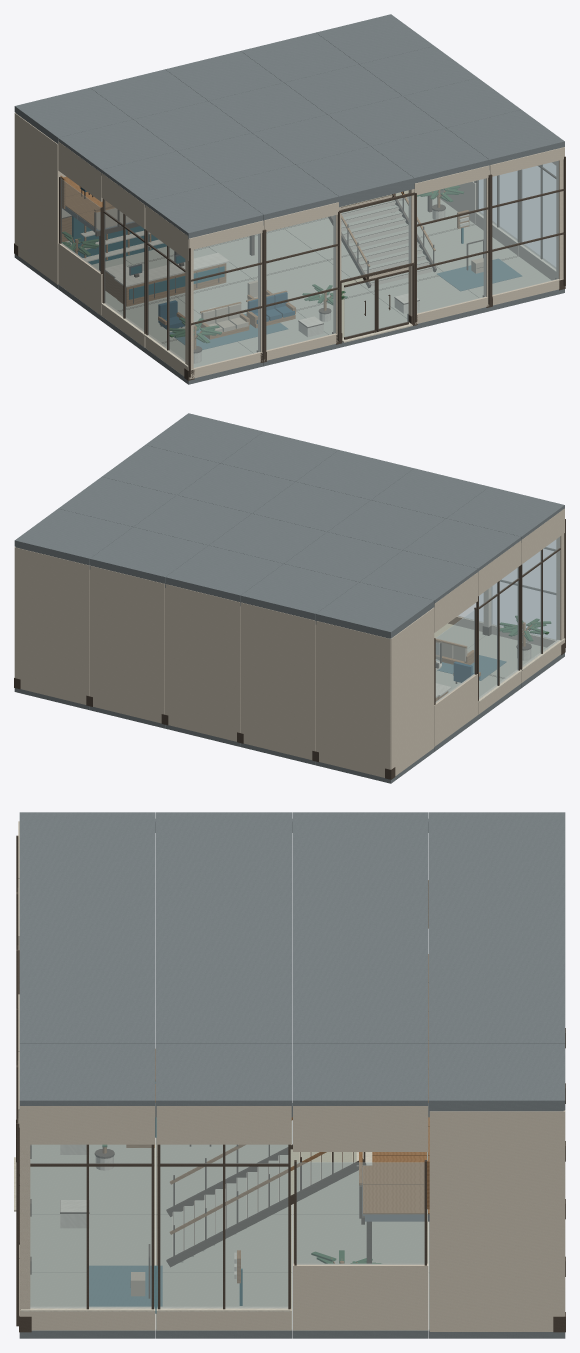
Rendered from PZ_Seaside_Resort_Lobby.glb.
3 renders of one model, top to bottom at view 1: azimuth 30°, elevation 25°; view 2: azimuth 150°, elevation 25°; view 3: azimuth 270°, elevation 25°, orthographic. The views are drawn at different scales.
Visible parts, largest first — view 1: RENDER__FrontGlazingBay_X+4_SNAP__WindowWallGlass__Glass, RENDER__FrontGlazingBay_X-4_SNAP__WindowWallGlass__Glass, RENDER__FrontGlazingBay_X-8_SNAP__WindowWallGlass__Glass, RENDER__FrontGlazingBay_X+8_SNAP__WindowWallGlass__Glass, RENDER__West_FacadeBay_04_SNAP__FullHeightInsulatedWall__Pla, RENDER__A06_CENTER_ENTRANCE_4M_BAY__Entry_UpperGlazing__Glas, RENDER__West_FacadeBay_02_SNAP__TintedGlazing__Glass, RENDER__RoofPanel_01_01_REMOVABLE__InsulatedRoofSlab__Concre, RENDER__West_FacadeBay_01_SNAP__TintedGlazing__Glass, RENDER__RoofPanel_03_01_REMOVABLE__InsulatedRoofSlab__Concre, RENDER__RoofPanel_02_01_REMOVABLE__InsulatedRoofSlab__Concre, RENDER__RoofPanel_04_01_REMOVABLE__InsulatedRoofSlab__Concre (+65 smaller); view 2: RENDER__BackWallBay_03_SNAP_4M__FullHeightInsulatedWall__Pla, RENDER__BackWallBay_02_SNAP_4M__FullHeightInsulatedWall__Pla, RENDER__BackWallBay_04_SNAP_4M__FullHeightInsulatedWall__Pla, RENDER__BackWallBay_05_SNAP_4M__FullHeightInsulatedWall__Pla, RENDER__BackWallBay_01_SNAP_4M__FullHeightInsulatedWall__Pla, RENDER__West_FacadeBay_04_SNAP__FullHeightInsulatedWall__Pla, RENDER__West_FacadeBay_02_SNAP__TintedGlazing__Glass, RENDER__RoofPanel_01_04_REMOVABLE__InsulatedRoofSlab__Concre, RENDER__West_FacadeBay_01_SNAP__TintedGlazing__Glass, RENDER__RoofPanel_03_04_REMOVABLE__InsulatedRoofSlab__Concre, RENDER__RoofPanel_04_04_REMOVABLE__InsulatedRoofSlab__Concre, RENDER__RoofPanel_05_04_REMOVABLE__InsulatedRoofSlab__Concre (+31 smaller); view 3: RENDER__East_FacadeBay_04_SNAP__FullHeightInsulatedWall__Pla, RENDER__East_FacadeBay_02_SNAP__TintedGlazing__Glass, RENDER__East_FacadeBay_01_SNAP__TintedGlazing__Glass, RENDER__East_FacadeBay_03_SNAP__GlazedClerestory__Glass, RENDER__RoofPanel_05_04_REMOVABLE__InsulatedRoofSlab__Concre, RENDER__East_FacadeBay_03_SNAP__LowerWall__PlasterWarm, RENDER__RoofPanel_05_02_REMOVABLE__InsulatedRoofSlab__Concre, RENDER__RoofPanel_05_01_REMOVABLE__InsulatedRoofSlab__Concre, RENDER__RoofPanel_05_03_REMOVABLE__InsulatedRoofSlab__Concre, RENDER__RoofPanel_04_01_REMOVABLE__InsulatedRoofSlab__Concre, RENDER__RoofPanel_04_02_REMOVABLE__InsulatedRoofSlab__Concre, RENDER__RoofPanel_04_03_REMOVABLE__InsulatedRoofSlab__Concre (+42 smaller).
Boxes of the visible parts, bbox=[...] form: RENDER__FrontGlazingBay_X+4_SNAP__WindowWallGlass__Glass: bbox=[417, 178, 486, 313]; RENDER__FrontGlazingBay_X-4_SNAP__WindowWallGlass__Glass: bbox=[266, 215, 335, 350]; RENDER__FrontGlazingBay_X-8_SNAP__WindowWallGlass__Glass: bbox=[193, 233, 260, 367]; RENDER__FrontGlazingBay_X+8_SNAP__WindowWallGlass__Glass: bbox=[492, 161, 558, 294]; RENDER__West_FacadeBay_04_SNAP__FullHeightInsulatedWall__Pla: bbox=[14, 113, 60, 284]; RENDER__A06_CENTER_ENTRANCE_4M_BAY__Entry_UpperGlazing__Glas: bbox=[341, 196, 410, 279]; RENDER__West_FacadeBay_02_SNAP__TintedGlazing__Glass: bbox=[104, 200, 144, 331]; RENDER__RoofPanel_01_01_REMOVABLE__InsulatedRoofSlab__Concre: bbox=[145, 183, 263, 238]; RENDER__West_FacadeBay_01_SNAP__TintedGlazing__Glass: bbox=[148, 232, 185, 361]; RENDER__RoofPanel_03_01_REMOVABLE__InsulatedRoofSlab__Concre: bbox=[296, 146, 414, 202]; RENDER__RoofPanel_02_01_REMOVABLE__InsulatedRoofSlab__Concre: bbox=[220, 165, 338, 220]; RENDER__RoofPanel_04_01_REMOVABLE__InsulatedRoofSlab__Concre: bbox=[371, 128, 489, 183]; RENDER__BackWallBay_03_SNAP_4M__FullHeightInsulatedWall__Pla: bbox=[165, 584, 240, 741]; RENDER__BackWallBay_02_SNAP_4M__FullHeightInsulatedWall__Pla: bbox=[241, 602, 315, 759]; RENDER__BackWallBay_04_SNAP_4M__FullHeightInsulatedWall__Pla: bbox=[90, 565, 164, 723]; RENDER__BackWallBay_05_SNAP_4M__FullHeightInsulatedWall__Pla: bbox=[15, 547, 89, 704]; RENDER__BackWallBay_01_SNAP_4M__FullHeightInsulatedWall__Pla: bbox=[316, 621, 391, 777]; RENDER__West_FacadeBay_04_SNAP__FullHeightInsulatedWall__Pla: bbox=[391, 607, 434, 775]; RENDER__West_FacadeBay_02_SNAP__TintedGlazing__Glass: bbox=[479, 567, 518, 698]; RENDER__RoofPanel_01_04_REMOVABLE__InsulatedRoofSlab__Concre: bbox=[316, 582, 434, 638]; RENDER__West_FacadeBay_01_SNAP__TintedGlazing__Glass: bbox=[522, 537, 559, 667]; RENDER__RoofPanel_03_04_REMOVABLE__InsulatedRoofSlab__Concre: bbox=[165, 545, 283, 601]; RENDER__RoofPanel_04_04_REMOVABLE__InsulatedRoofSlab__Concre: bbox=[90, 527, 208, 582]; RENDER__RoofPanel_05_04_REMOVABLE__InsulatedRoofSlab__Concre: bbox=[14, 508, 132, 564]; RENDER__East_FacadeBay_04_SNAP__FullHeightInsulatedWall__Pla: bbox=[429, 1111, 564, 1331]; RENDER__East_FacadeBay_02_SNAP__TintedGlazing__Glass: bbox=[160, 1144, 288, 1308]; RENDER__East_FacadeBay_01_SNAP__TintedGlazing__Glass: bbox=[30, 1144, 151, 1308]; RENDER__East_FacadeBay_03_SNAP__GlazedClerestory__Glass: bbox=[296, 1162, 424, 1264]; RENDER__RoofPanel_05_04_REMOVABLE__InsulatedRoofSlab__Concre: bbox=[429, 1043, 565, 1110]; RENDER__East_FacadeBay_03_SNAP__LowerWall__PlasterWarm: bbox=[293, 1263, 428, 1330]; RENDER__RoofPanel_05_02_REMOVABLE__InsulatedRoofSlab__Concre: bbox=[156, 1043, 292, 1110]; RENDER__RoofPanel_05_01_REMOVABLE__InsulatedRoofSlab__Concre: bbox=[19, 1043, 155, 1109]; RENDER__RoofPanel_05_03_REMOVABLE__InsulatedRoofSlab__Concre: bbox=[292, 1043, 428, 1109]; RENDER__RoofPanel_04_01_REMOVABLE__InsulatedRoofSlab__Concre: bbox=[19, 985, 155, 1043]; RENDER__RoofPanel_04_02_REMOVABLE__InsulatedRoofSlab__Concre: bbox=[156, 985, 292, 1043]; RENDER__RoofPanel_04_03_REMOVABLE__InsulatedRoofSlab__Concre: bbox=[292, 985, 428, 1043].
Bounding box in the file's own units: 20.08 × 7.69 × 16.18.
16 materials, 13 textured.
